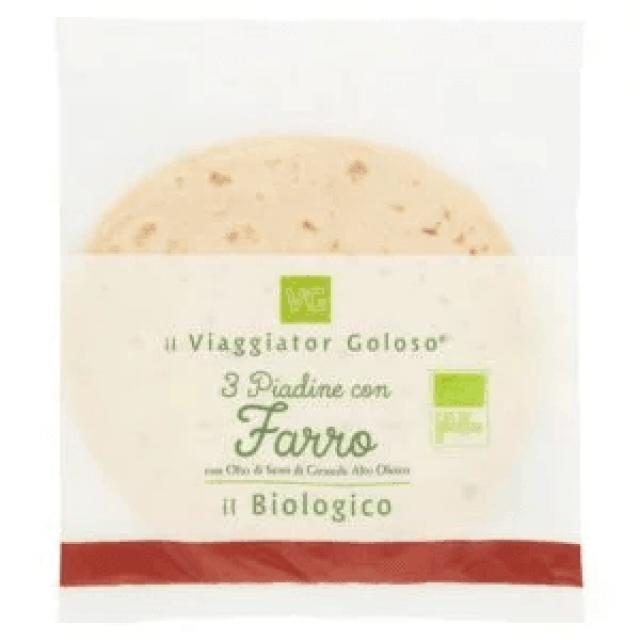Bread loaf: (62, 21, 582, 589)
